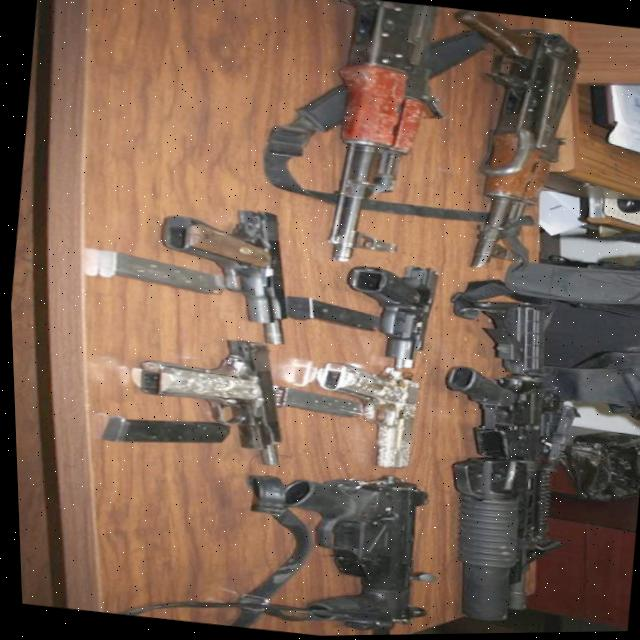firearm: (409, 293, 594, 630), (286, 0, 467, 274), (420, 7, 592, 281), (259, 461, 441, 637)
pistol: (110, 325, 295, 470), (144, 198, 300, 348), (302, 358, 423, 472), (336, 256, 441, 373)
rocket: (426, 451, 526, 624)
